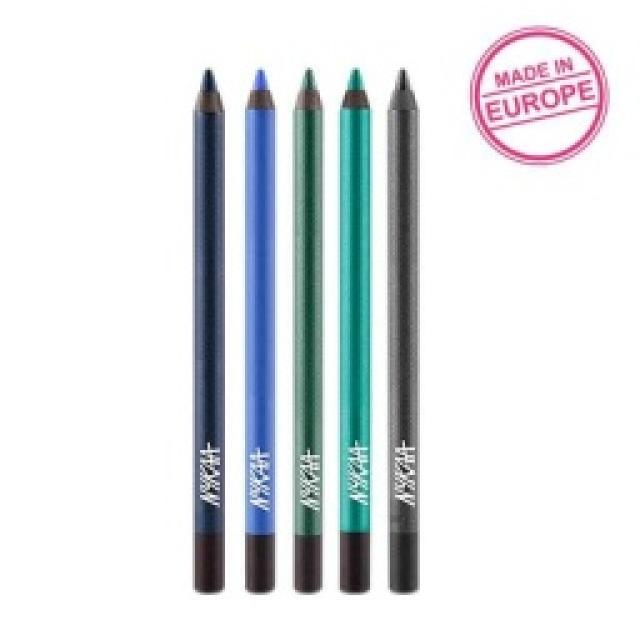pencil: (465, 23, 610, 165)
